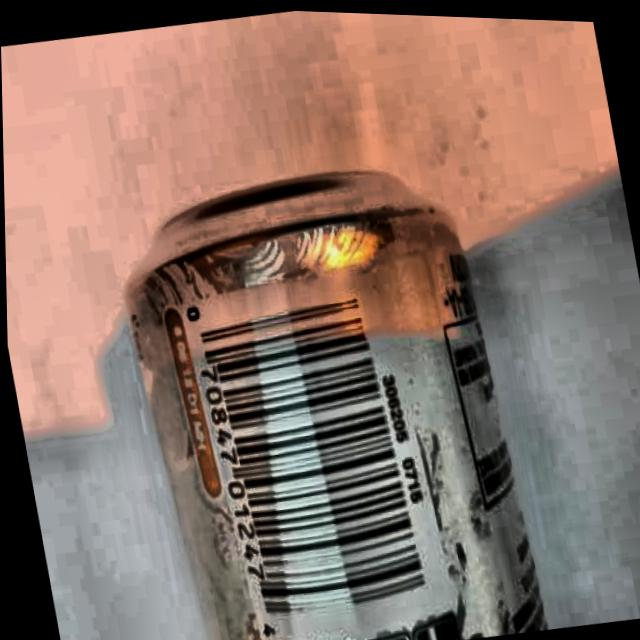Cans: (75, 108, 564, 640)
